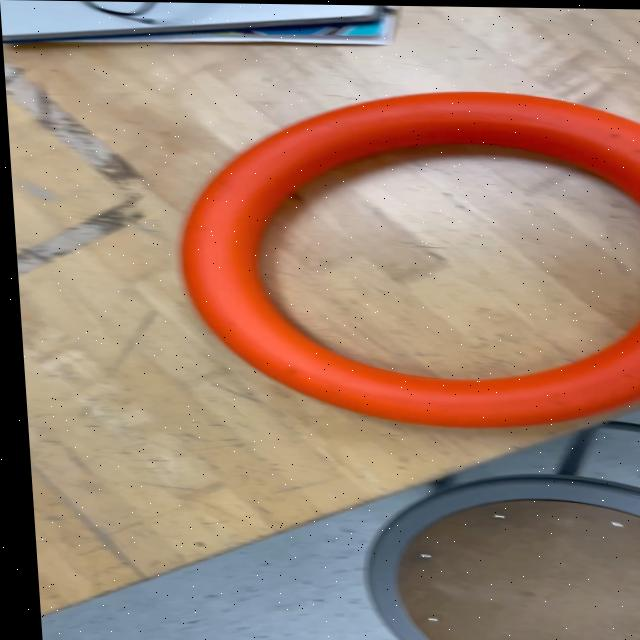note: (165, 84, 640, 430)
